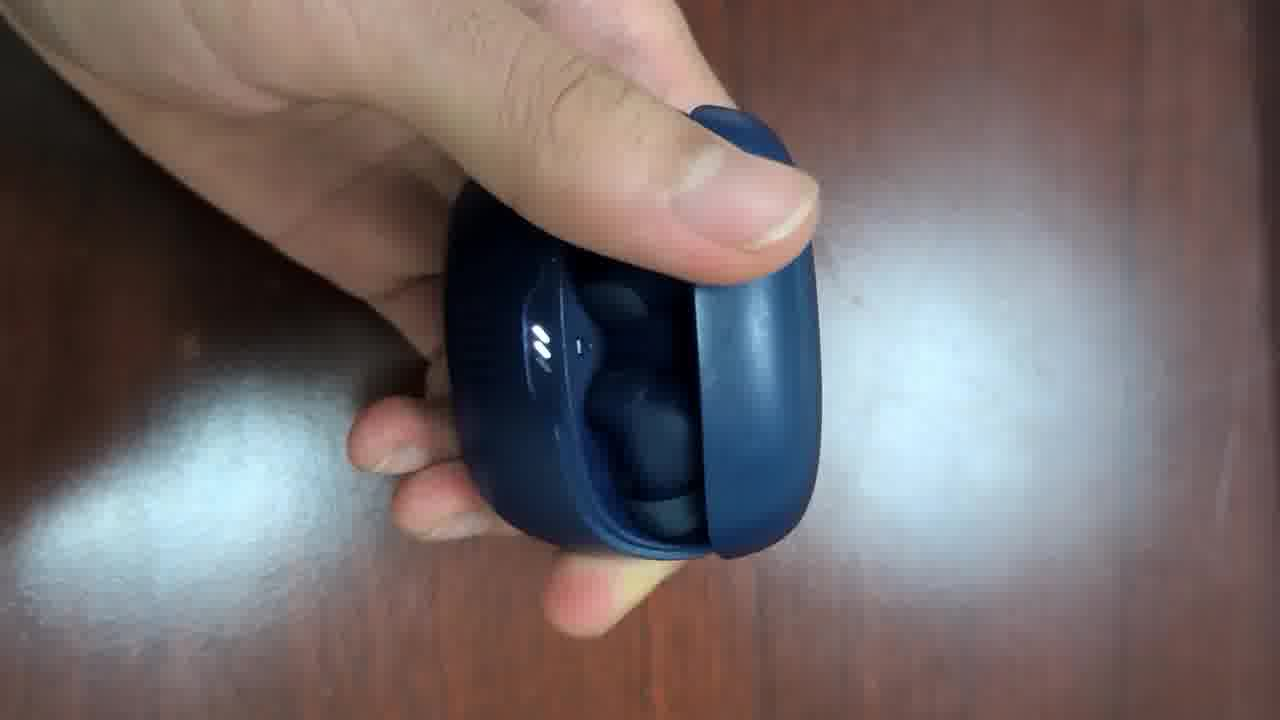Earbud: (585, 370, 702, 538)
